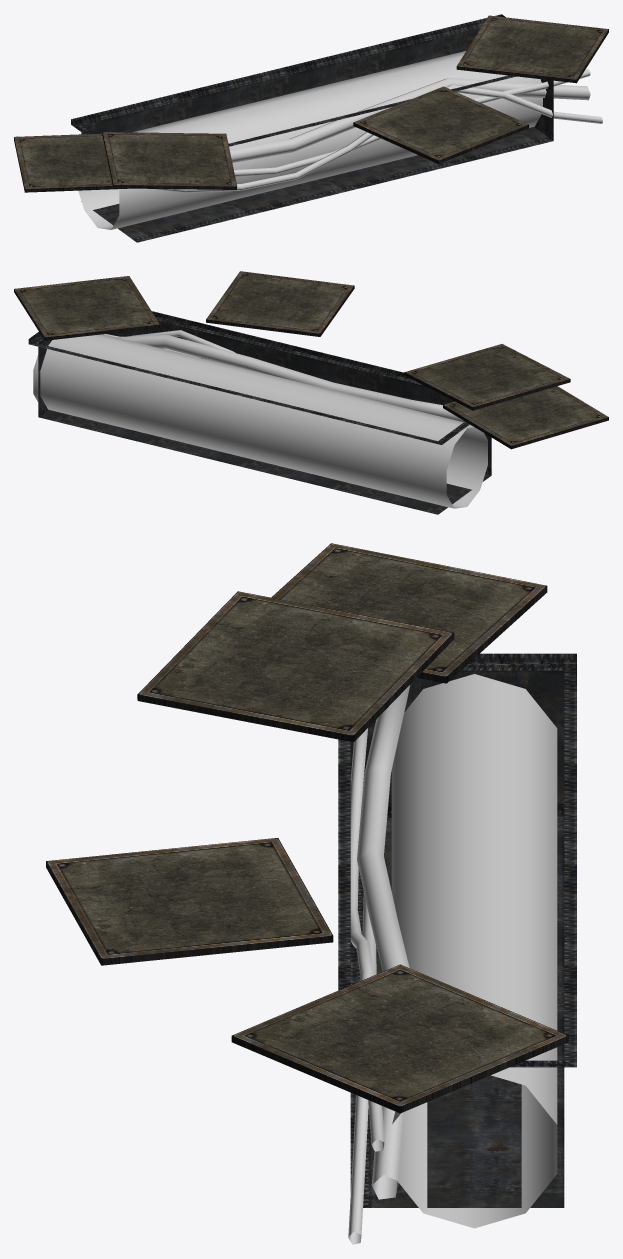
The model's file is tunnels_floor_open01.DAE.
3 renders of one model, top to bottom at view 1: azimuth 30°, elevation 25°; view 2: azimuth 150°, elevation 25°; view 3: azimuth 270°, elevation 25°, orthographic. The views are drawn at different scales.
Visible parts, largest first — view 1: floor_tiles, floor_pipe_housing, floor_pipe, floor_cables; view 2: floor_pipe, floor_tiles, floor_pipe_housing, floor_cables; view 3: floor_tiles, floor_pipe, floor_pipe_housing, floor_cables.
Part boxes in pixels (left/top/right/bottom): floor_tiles: left=14, top=15, right=608, bottom=192; floor_pipe_housing: left=71, top=14, right=553, bottom=242; floor_pipe: left=78, top=51, right=542, bottom=229; floor_cables: left=153, top=69, right=602, bottom=192; floor_pipe: left=33, top=334, right=487, bottom=508; floor_tiles: left=14, top=271, right=608, bottom=449; floor_pipe_housing: left=28, top=311, right=491, bottom=514; floor_cables: left=104, top=330, right=464, bottom=421; floor_tiles: left=46, top=543, right=568, bottom=1113; floor_pipe: left=391, top=674, right=557, bottom=1228; floor_pipe_housing: left=338, top=653, right=576, bottom=1207; floor_cables: left=348, top=685, right=410, bottom=1244.
Bounding box in the file's own units: 2.8 × 1.11 × 0.4438.
